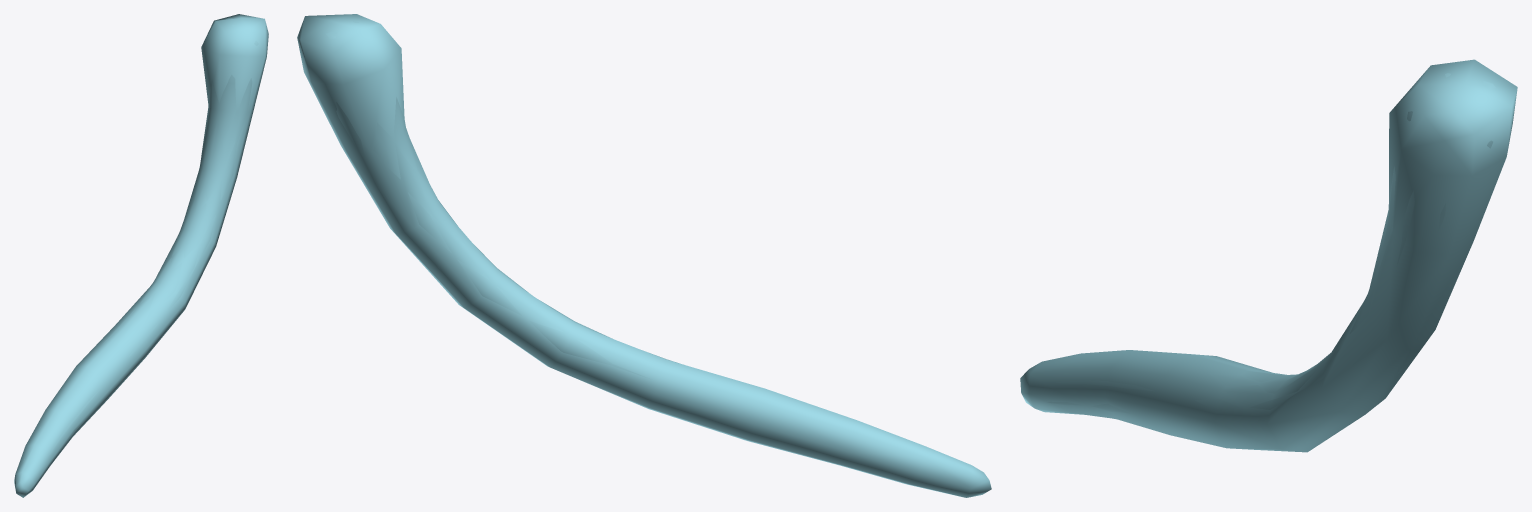
3 renders of one model, left to right at view 1: azimuth 30°, elevation 25°; view 2: azimuth 150°, elevation 25°; view 3: azimuth 270°, elevation 25°, orthographic. The views are drawn at different scales.
Parts seen in each view (by area): view 1: CC L6 low, CC L6; view 2: CC L6 low, CC L6; view 3: CC L6 low, CC L6.
Boxes of the visible parts, x1=… form: CC L6 low: x1=14, y1=14, x2=268, y2=497; CC L6: x1=22, y1=18, x2=260, y2=492; CC L6 low: x1=297, y1=14, x2=991, y2=497; CC L6: x1=303, y1=21, x2=952, y2=490; CC L6 low: x1=1020, y1=59, x2=1517, y2=452; CC L6: x1=1047, y1=73, x2=1495, y2=449.
Size of the model in its own units: 2.55 by 2.19 by 1.54.
